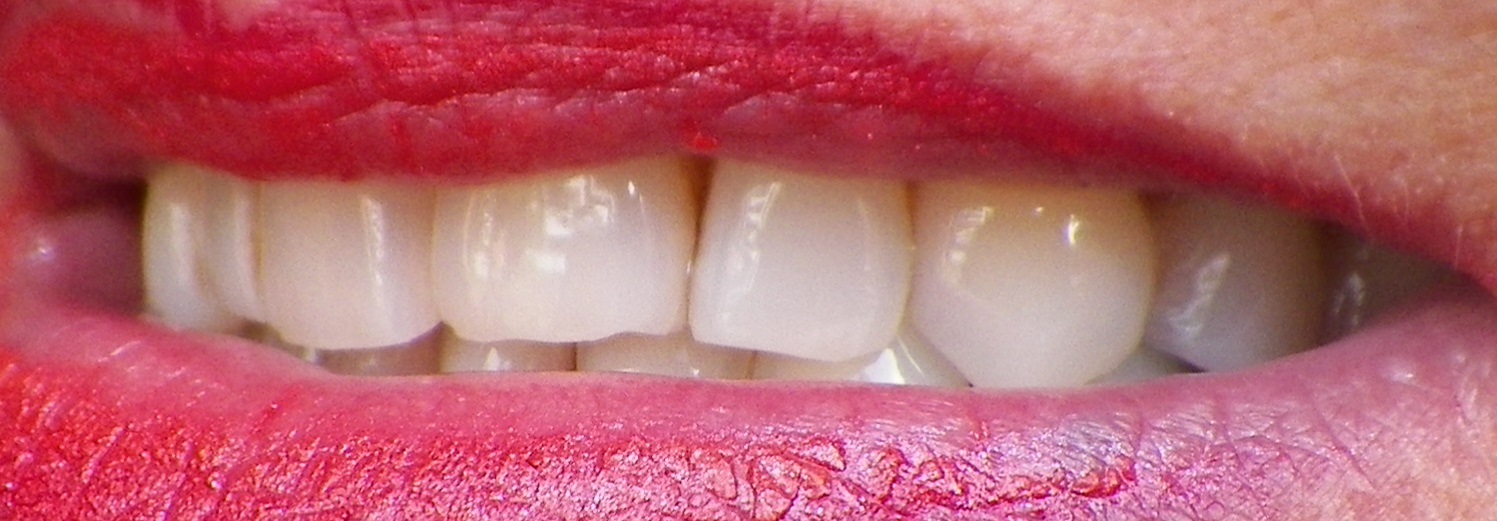boca: (115, 152, 1431, 400)
